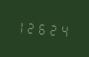four: (58, 21, 67, 38)
one: (18, 17, 27, 35)
six: (38, 19, 47, 37)
two: (28, 18, 37, 36), (48, 20, 57, 38)
